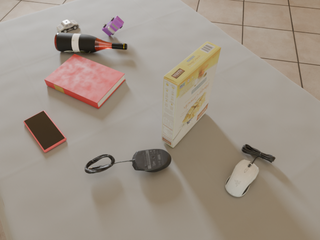book: (44, 54, 125, 109)
bottle: (54, 32, 127, 53)
box: (162, 42, 221, 147)
mouse: (225, 160, 259, 197), (129, 149, 171, 172)
phone: (24, 111, 66, 152)
toy_car: (102, 16, 124, 36), (57, 20, 79, 33)
